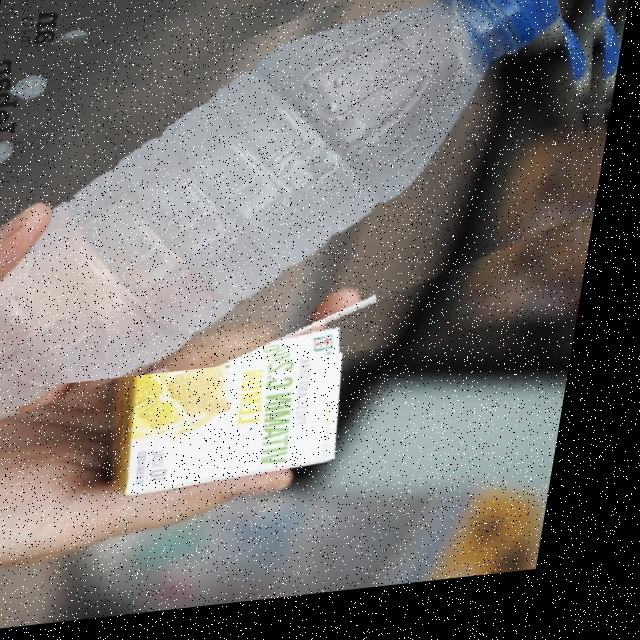litter: (0, 0, 639, 398), (449, 0, 639, 149)
